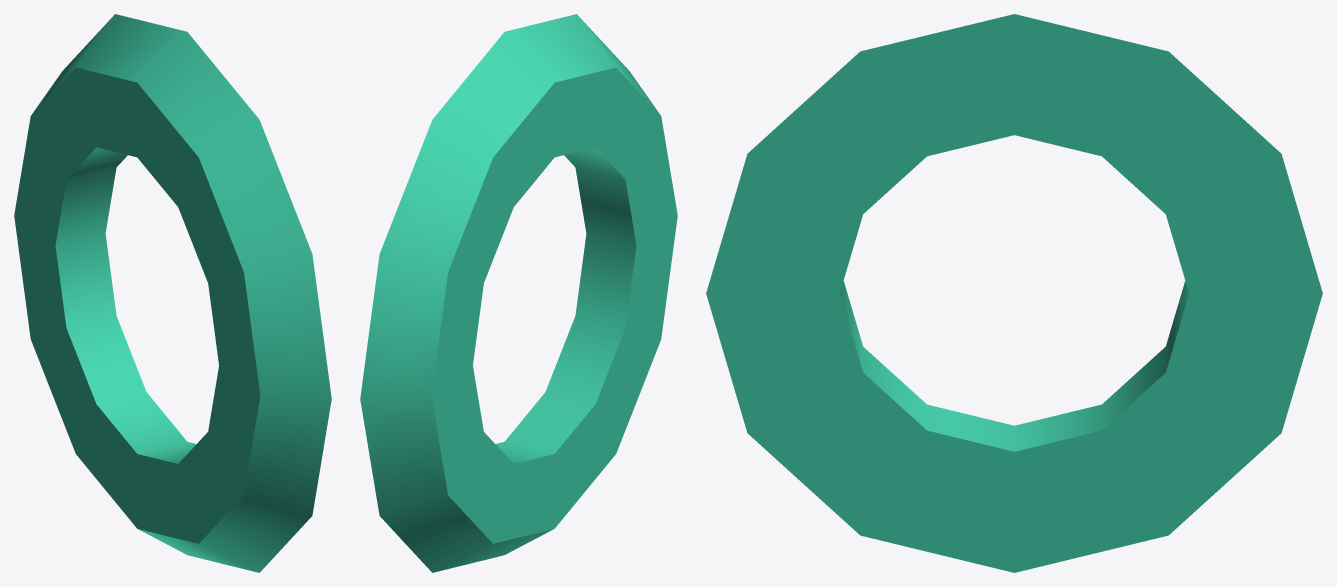
The model's file is D_Machine_Light_Base.fbx.
3 renders of one model, left to right at view 1: azimuth 30°, elevation 25°; view 2: azimuth 150°, elevation 25°; view 3: azimuth 270°, elevation 25°, orthographic. The views are drawn at different scales.
Parts seen in each view (by area): view 1: D_Machine_Light_Base; view 2: D_Machine_Light_Base; view 3: D_Machine_Light_Base.
Part boxes in pixels (<box>): D_Machine_Light_Base: <box>14,14,331,572</box>; D_Machine_Light_Base: <box>360,14,677,572</box>; D_Machine_Light_Base: <box>706,14,1322,572</box>.
Bounding box in the file's own units: 0.7628 × 7.62 × 7.62.
